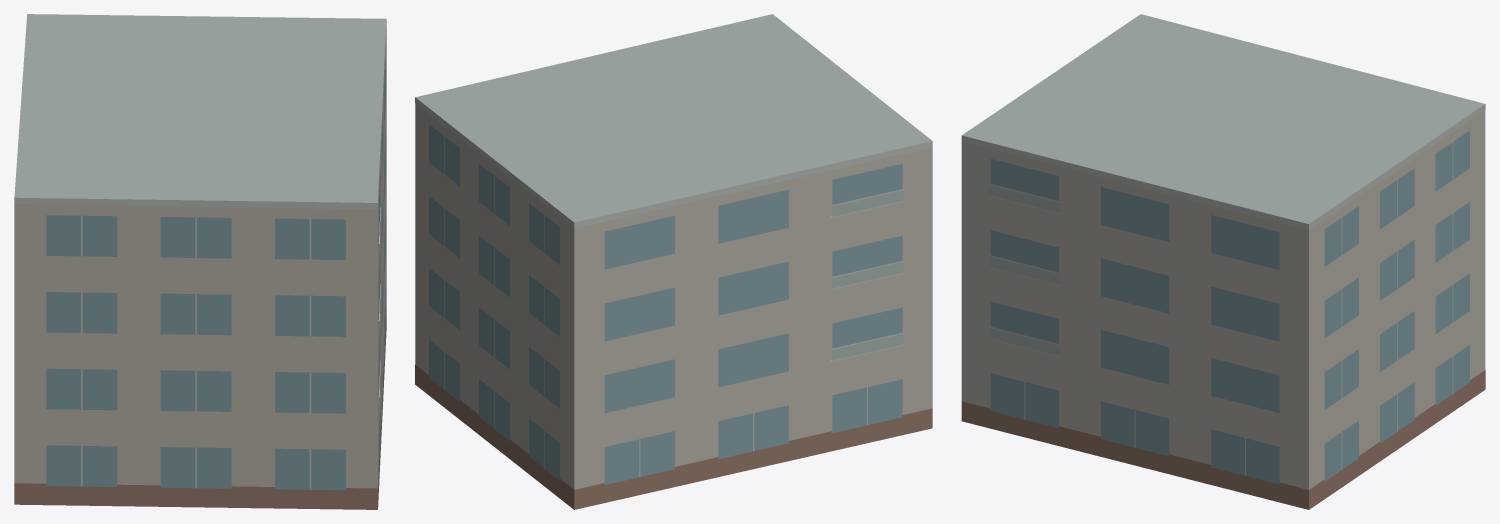
The model's file is survey-upis-33025653.glb.
3 views of the same model, side by side, from view 1: azimuth 30°, elevation 25°; view 2: azimuth 150°, elevation 25°; view 3: azimuth 270°, elevation 25° (orthographic). The views are drawn at different scales.
Parts seen in each view (by area): view 1: survey-upis-33025653.tmp; view 2: survey-upis-33025653.tmp; view 3: survey-upis-33025653.tmp.
Part boxes in pixels (x1=…): survey-upis-33025653.tmp: x1=14, y1=14, x2=386, y2=509; survey-upis-33025653.tmp: x1=415, y1=14, x2=932, y2=509; survey-upis-33025653.tmp: x1=961, y1=14, x2=1485, y2=509.
Size of the model in its own units: 18.3 by 11.6 by 19.28.
